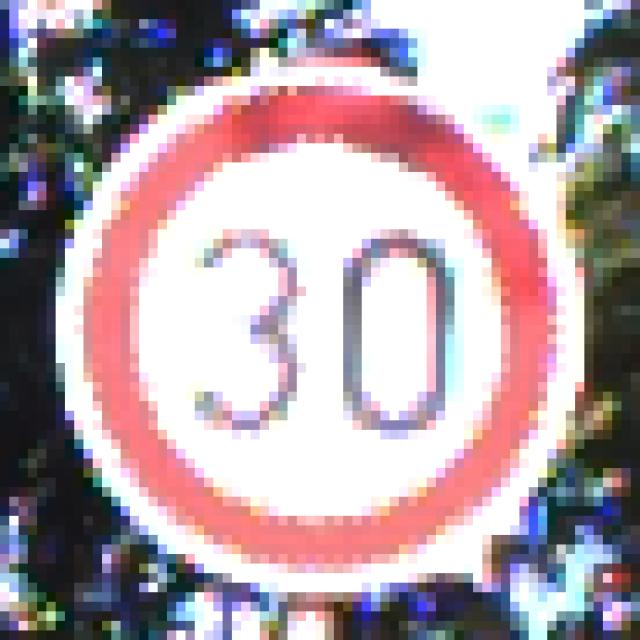Speed Limit -30-: (51, 52, 580, 578)
